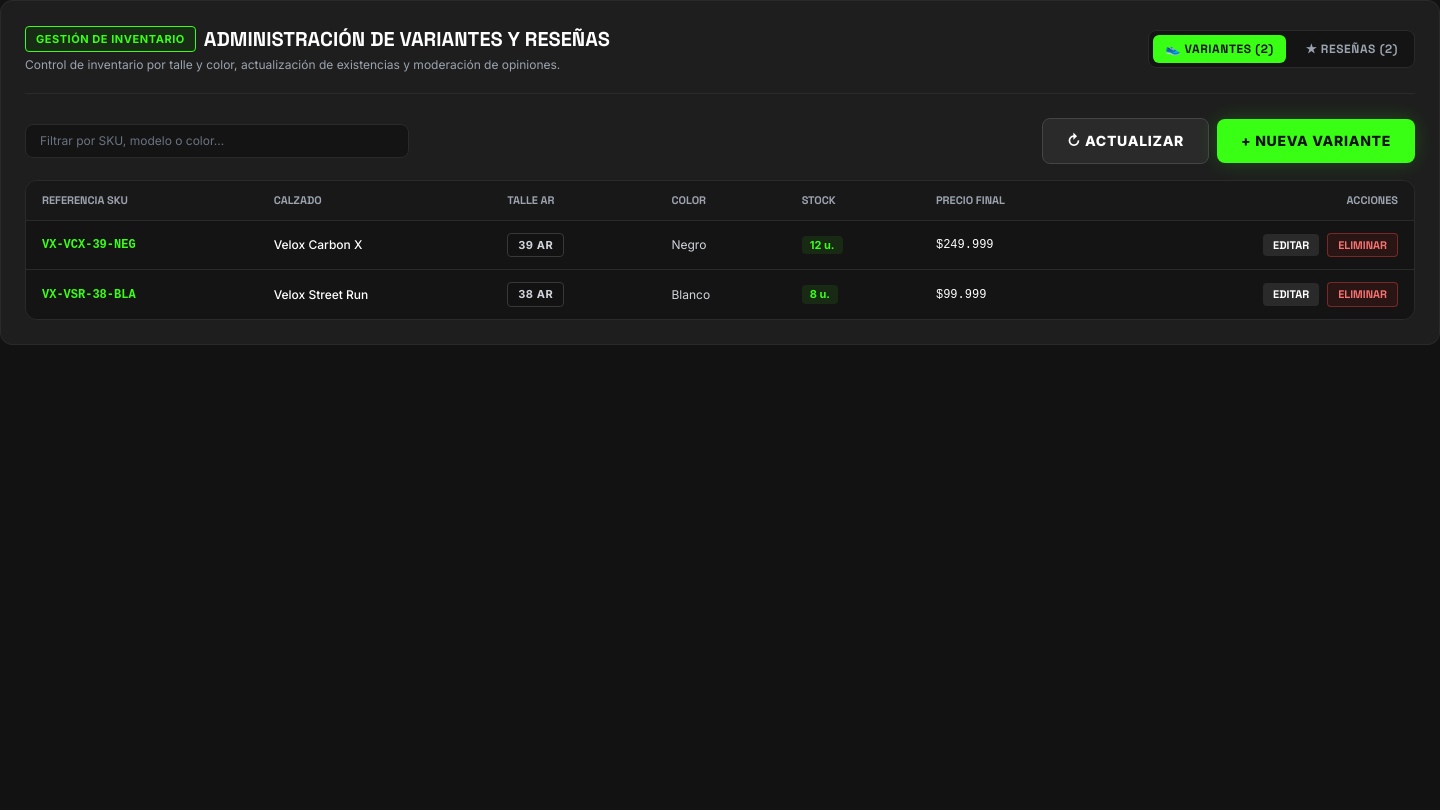
Test: DashboardCrudManager - Gestión de Inventario y Reseñas › 2. Abre modal y ajusta el stock de una variante
Expected: the text "VX-VCX-39-NEG" is shown, 26,220 -> 258,270
Click the button "EDITAR" in the row of "VX-VCX-39-NEG". click: (1291, 245)
box: 1263,234 -> 1319,256
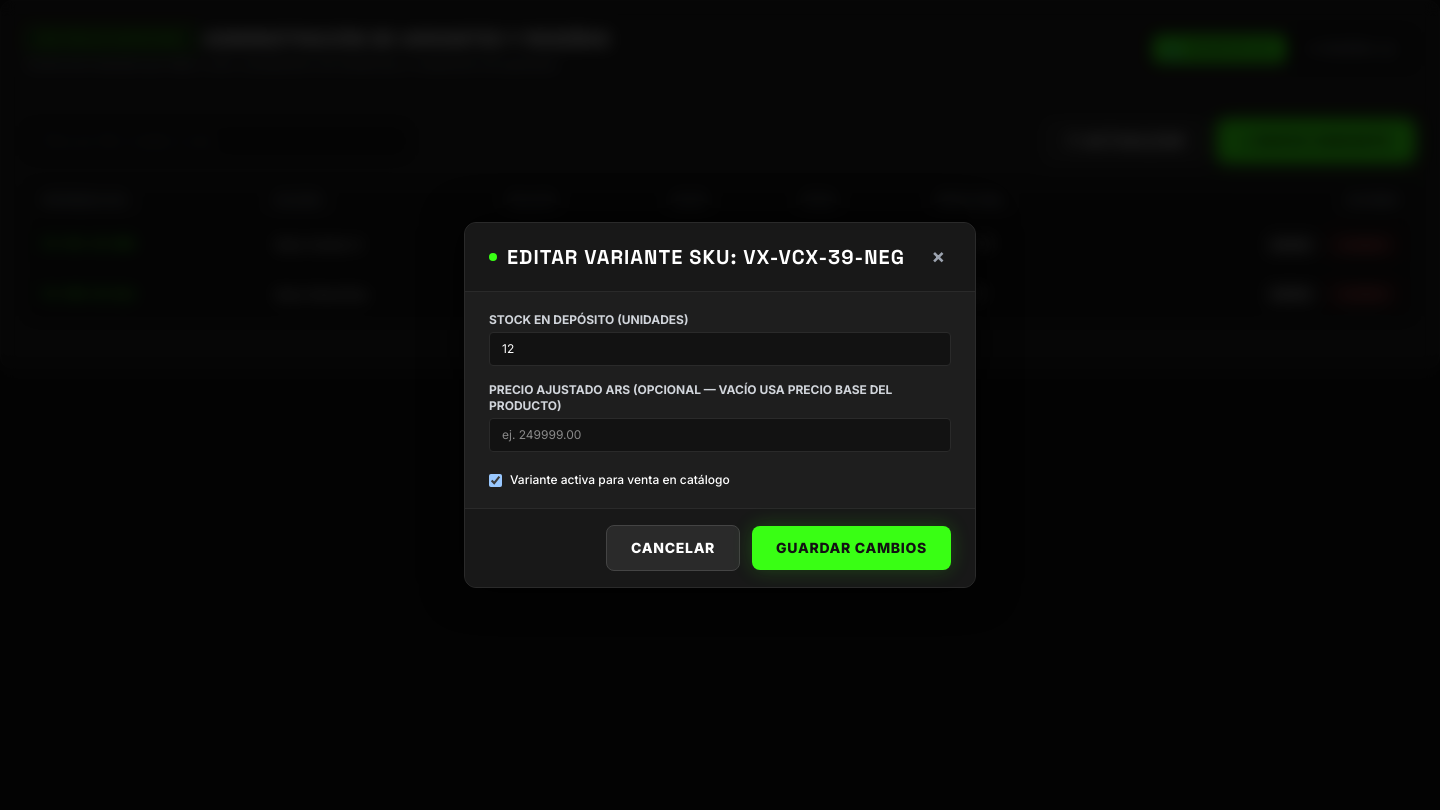
Now the dialog is shown
Now the heading "EDITAR VARIANTE SKU: VX-VCX-39-NEG" is shown, box 507,243 -> 905,271
Replace the text in the number field labelled "Stock en Depósito (Unidades)" with "35". click: (720, 349)
box: 489,332 -> 951,366
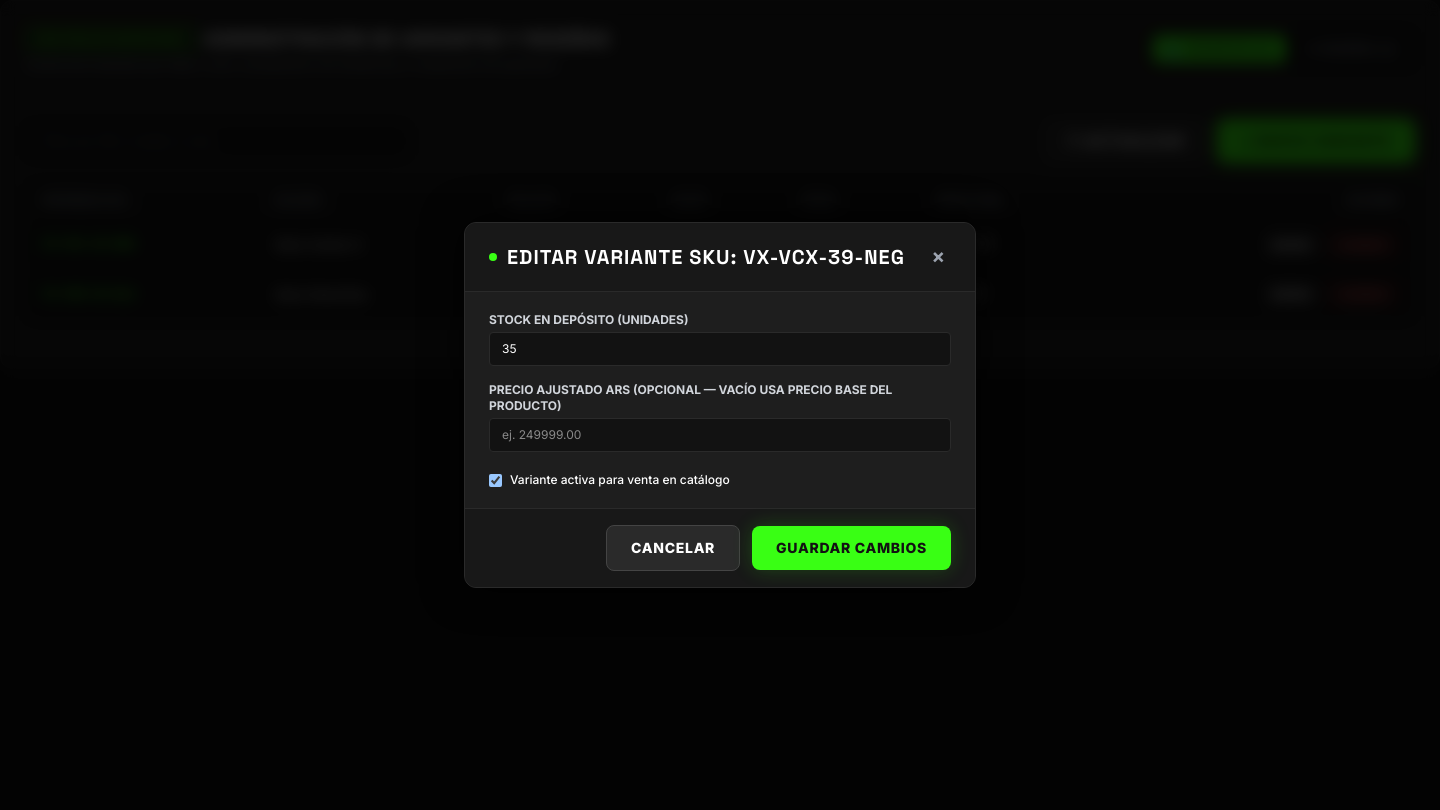
Click the button "GUARDAR CAMBIOS". click: (852, 548)
box: 752,526 -> 951,570
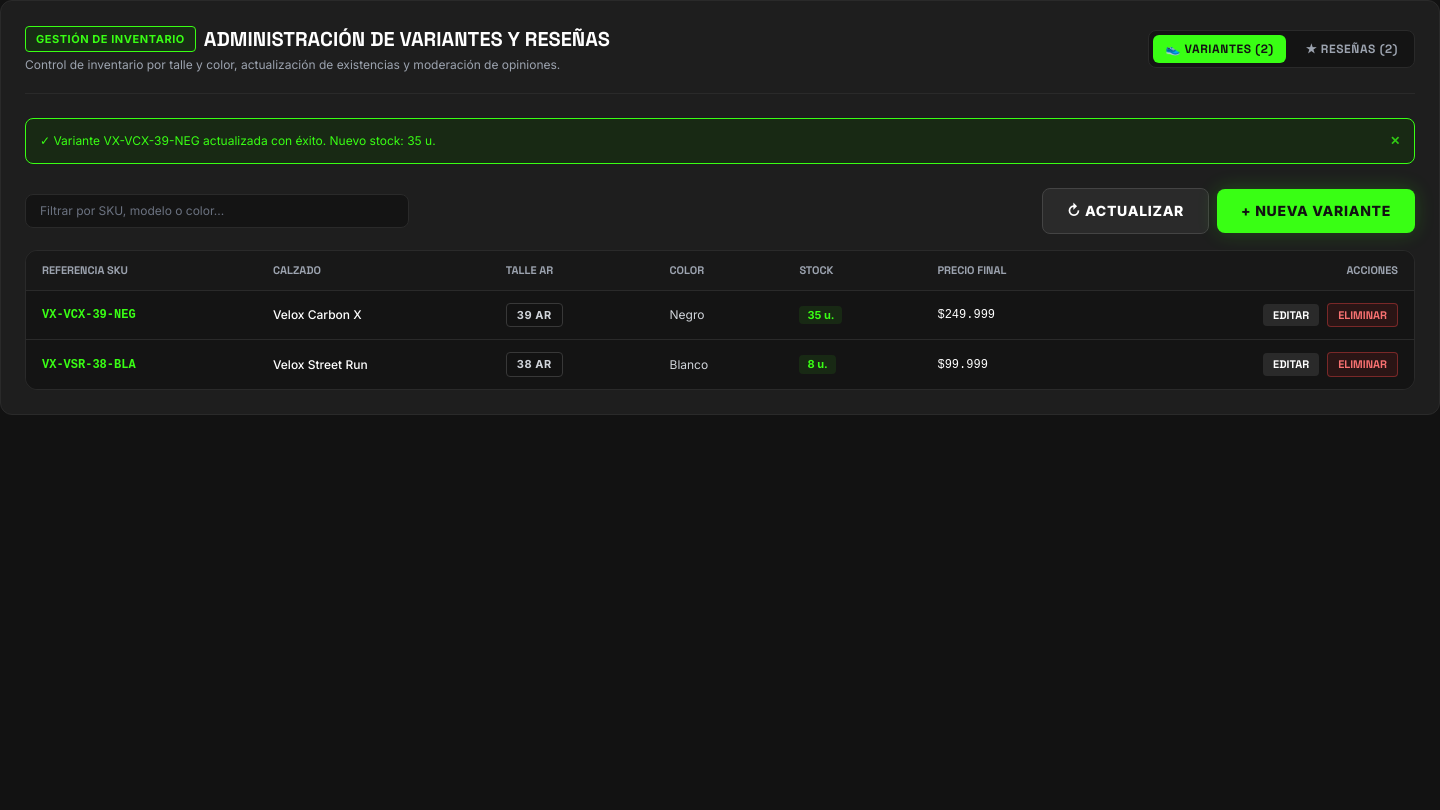
Now the text "35 u." is shown, box 799,306 -> 842,324
Now the text "actualizada con éxito" is shown, box 40,133 -> 436,148
